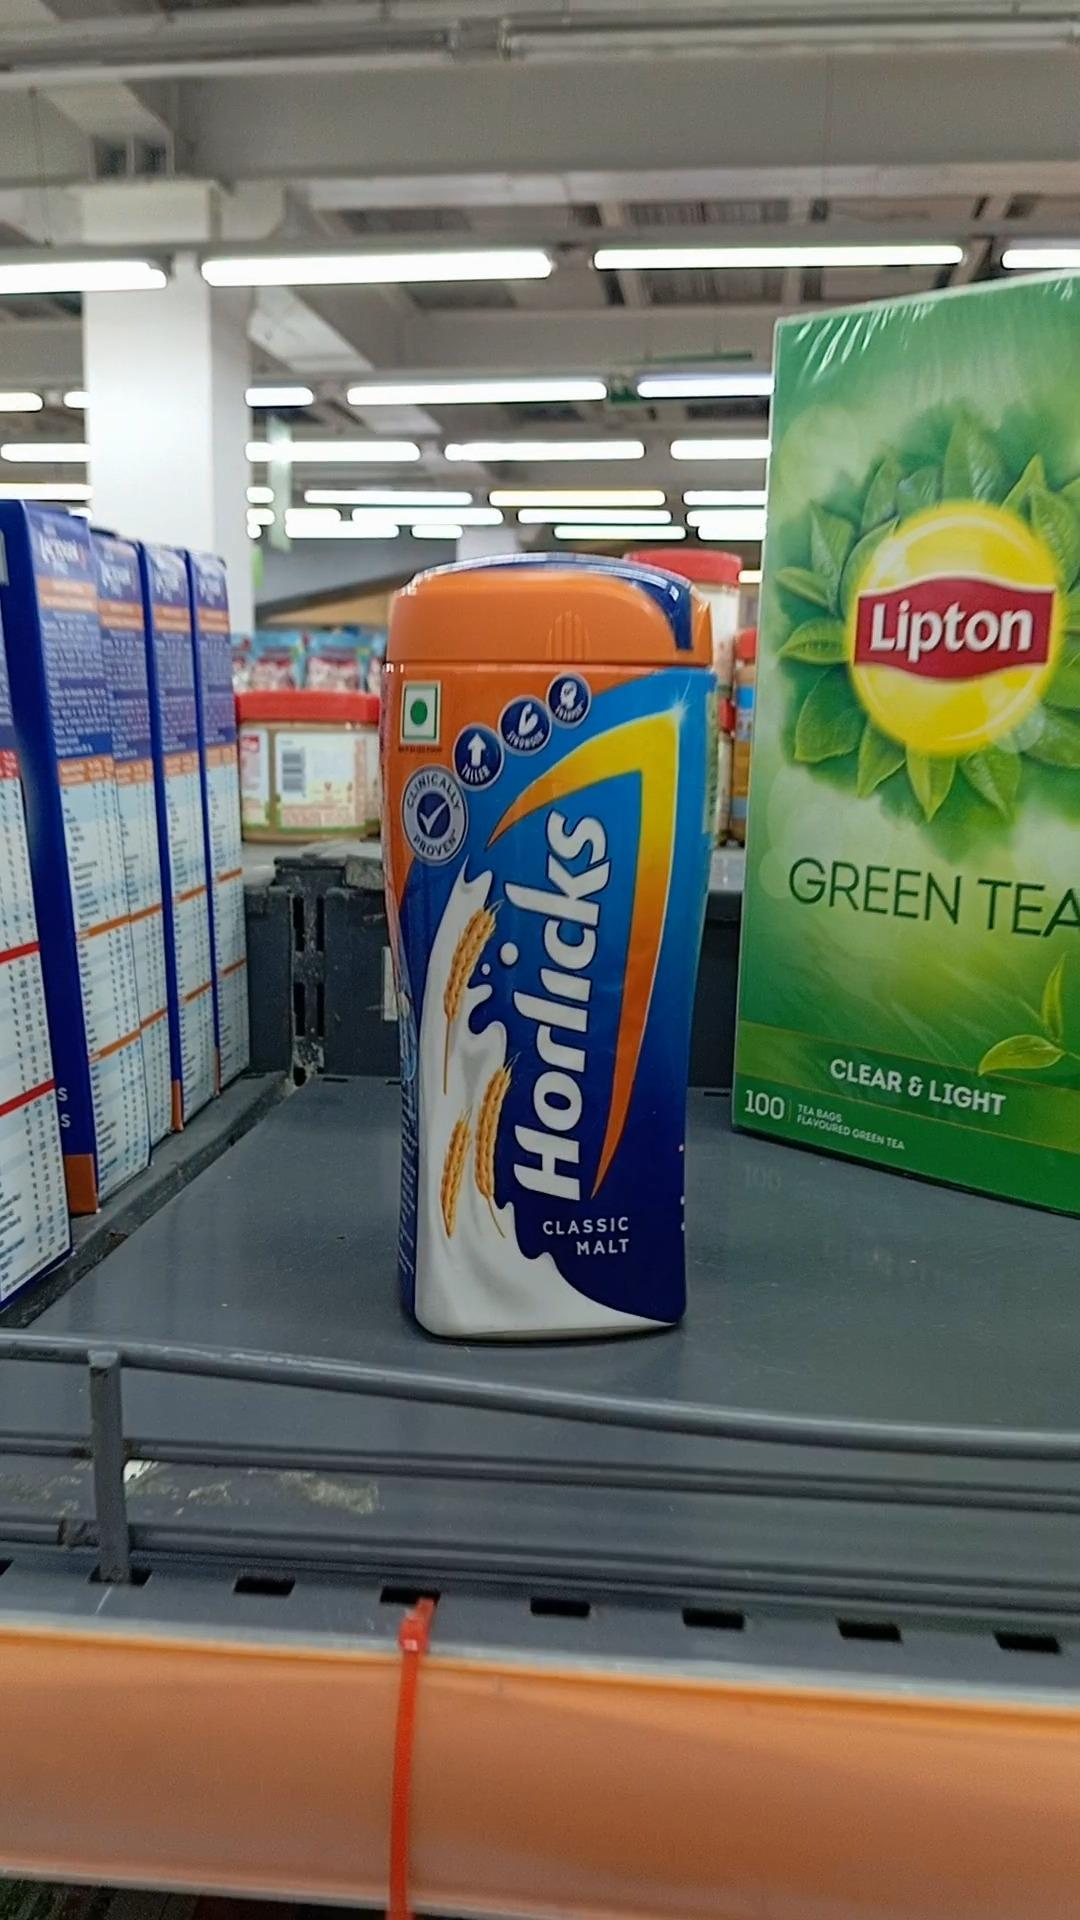HORLICK_CLASSIC_MALT_200_G_JAR: (381, 556, 724, 1353)
